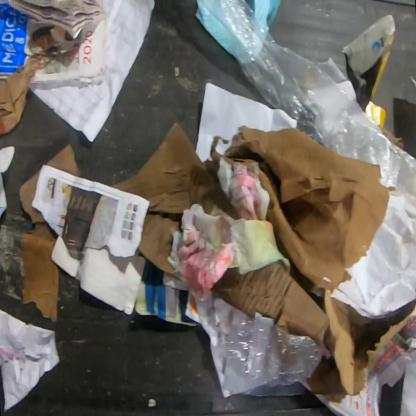cardboard: (209, 260, 415, 396), (109, 121, 240, 280)
soft_plastic: (193, 0, 416, 190), (216, 312, 323, 396)
